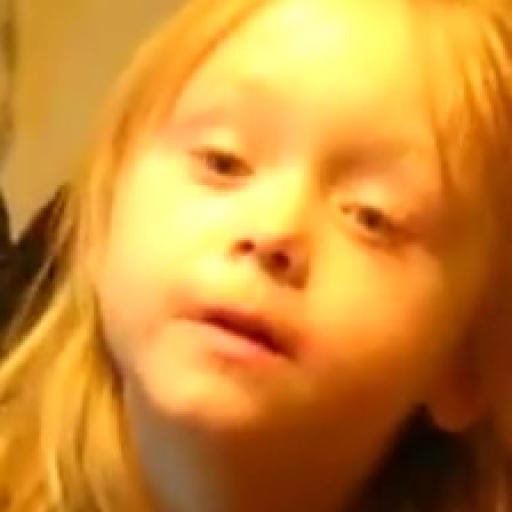Autism: (87, 19, 512, 460)
